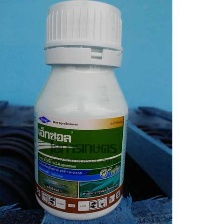insecticide: (28, 0, 131, 222)
